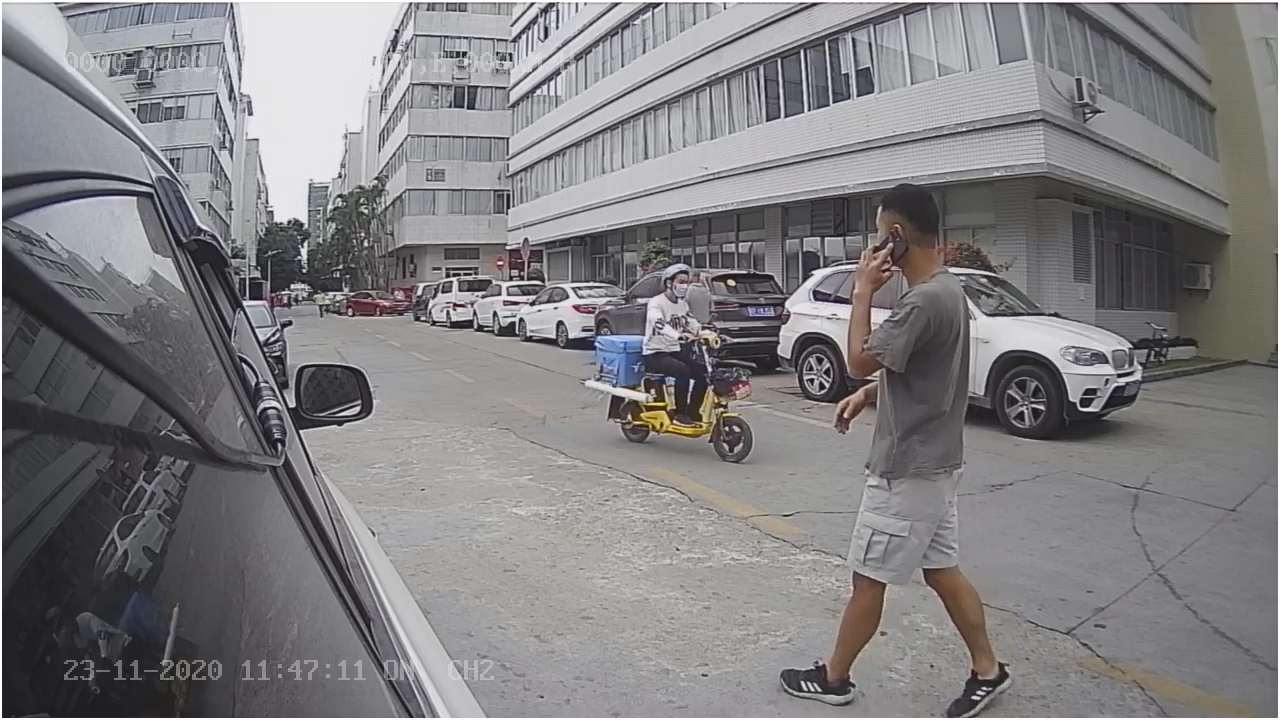person: (776, 173, 1009, 714), (645, 250, 717, 340)
